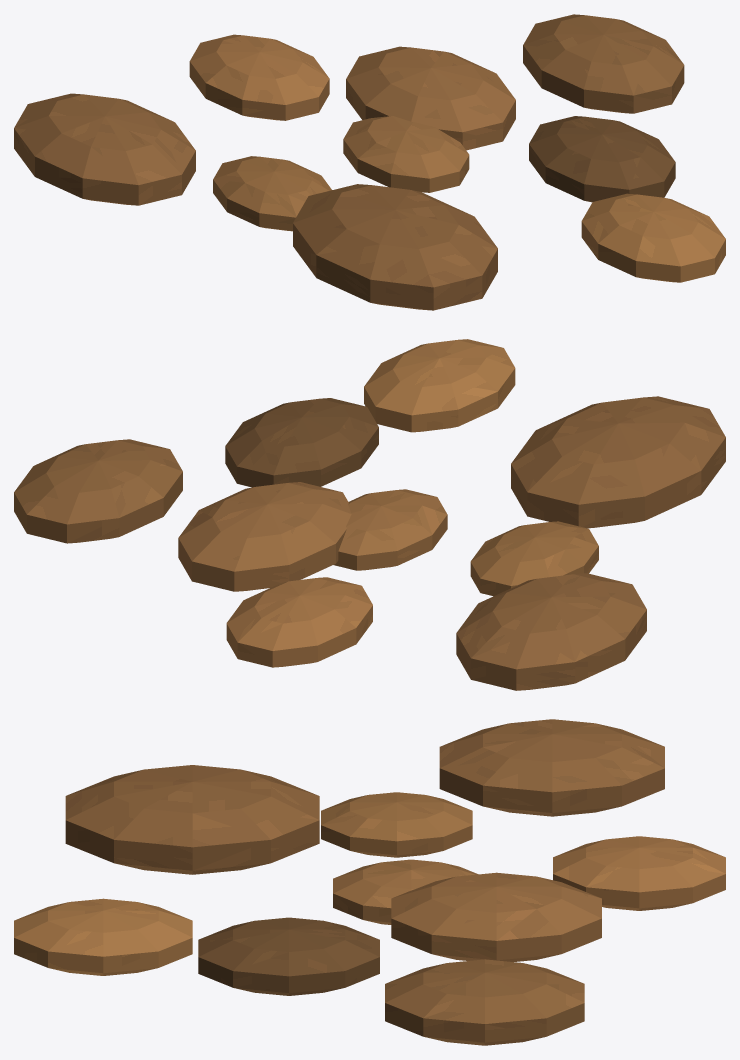
Rendered from seed_raspberries.glb.
3 renders of one model, top to bottom at view 1: azimuth 30°, elevation 25°; view 2: azimuth 150°, elevation 25°; view 3: azimuth 270°, elevation 25°, orthographic. The views are drawn at different scales.
Visible parts, largest first — view 1: block_grain 5, block_grain 7, block_grain 6, block_grain 1, block_grain 8, block_grain 3, block_grain 4, block_grain 0, block_grain 2; view 2: block_grain 5, block_grain 7, block_grain 1, block_grain 6, block_grain 8, block_grain 3, block_grain 4, block_grain 0, block_grain 2; view 3: block_grain 5, block_grain 7, block_grain 1, block_grain 6, block_grain 3, block_grain 8, block_grain 4, block_grain 2, block_grain 0.
Boxes of the visible parts, x1,y1,x2,y2 form: block_grain 5: (293, 184, 497, 310); block_grain 7: (14, 93, 195, 205); block_grain 6: (523, 14, 684, 113); block_grain 1: (346, 46, 515, 150); block_grain 8: (581, 193, 725, 282); block_grain 3: (529, 116, 675, 202); block_grain 4: (189, 34, 329, 120); block_grain 0: (343, 116, 469, 192); block_grain 2: (213, 156, 331, 231); block_grain 5: (511, 396, 725, 528); block_grain 7: (456, 573, 646, 690); block_grain 1: (178, 482, 351, 591); block_grain 6: (14, 439, 182, 543); block_grain 8: (364, 339, 515, 432); block_grain 3: (225, 398, 378, 487); block_grain 4: (226, 577, 372, 667); block_grain 0: (334, 489, 447, 570); block_grain 2: (470, 521, 598, 596); block_grain 5: (65, 765, 319, 874); block_grain 7: (439, 719, 664, 816); block_grain 1: (391, 872, 601, 961); block_grain 6: (385, 959, 584, 1045); block_grain 3: (198, 917, 379, 995); block_grain 8: (14, 898, 192, 975); block_grain 4: (553, 836, 725, 910); block_grain 2: (321, 792, 472, 857); block_grain 0: (333, 859, 477, 924).
Bounding box in the file's own units: 0.0217 × 0.0026 × 0.022.
Materials: 1 (1 with a texture image).
